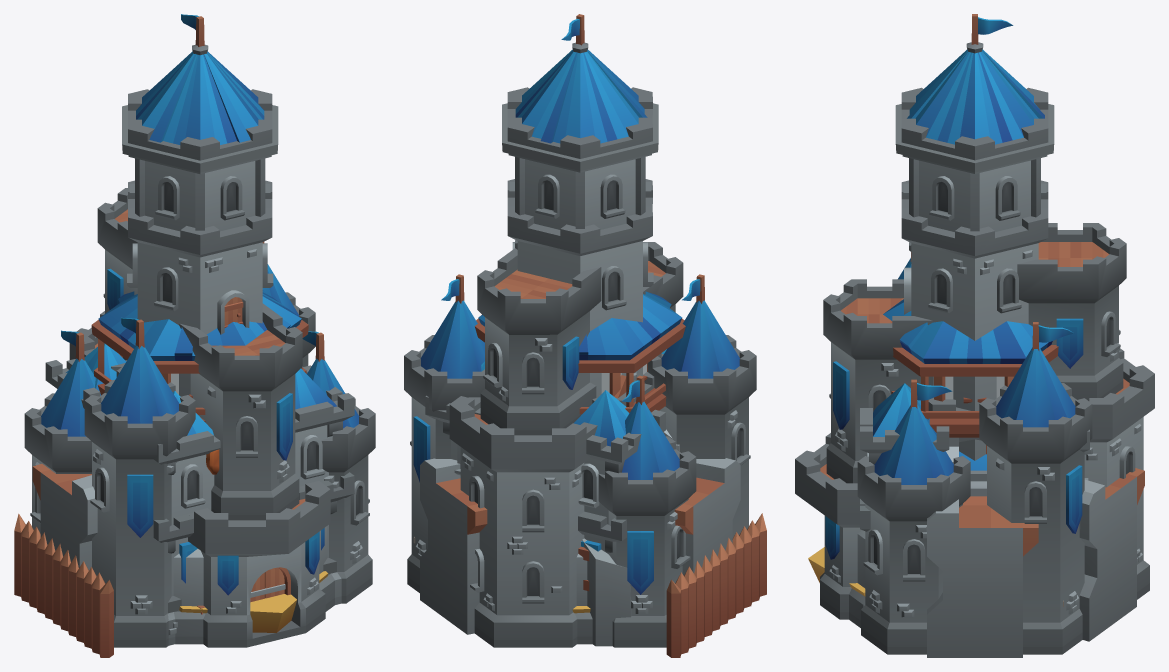
Rendered from props.glb.
3 views of the same model, side by side, from view 1: azimuth 30°, elevation 25°; view 2: azimuth 150°, elevation 25°; view 3: azimuth 270°, elevation 25° (orthographic).
Visible parts, largest first — view 1: building_castle_blue, building_barracks_blue, fence_wood_straight, building_tower_B_top_blue, wall_corner_A_outside, building_grain, wall_straight_gate, wall_straight; view 2: building_castle_blue, wall_corner_A_outside, fence_wood_straight, building_barracks_blue, building_tower_B_top_blue, building_mine_blue, wall_straight; view 3: building_castle_blue, wall_straight, wall_corner_A_outside, building_tower_B_top_blue, wall_straight_gate, building_barracks_blue, building_tower_A_top_blue.
Boxes of the visible parts, x1,y1,x2,y2 form: building_castle_blue: (24,14,375,647); building_barracks_blue: (45,343,354,645); fence_wood_straight: (14,513,113,657); building_tower_B_top_blue: (91,290,308,421); wall_corner_A_outside: (32,464,92,567); building_grain: (179,571,328,632); wall_straight_gate: (79,487,97,569); wall_straight: (33,464,92,494); building_castle_blue: (404,14,756,647); wall_corner_A_outside: (420,444,740,634); fence_wood_straight: (666,513,766,657); building_barracks_blue: (425,349,666,553); building_tower_B_top_blue: (474,291,685,414); building_mine_blue: (582,538,631,646); wall_straight: (675,458,731,511); building_castle_blue: (795,14,1154,654); wall_straight: (927,499,1038,657); wall_corner_A_outside: (1079,468,1144,641); building_tower_B_top_blue: (883,299,1058,437); wall_straight_gate: (927,437,1031,651); building_barracks_blue: (860,383,1089,606); building_tower_A_top_blue: (933,376,1013,403).
Size of the model in its own units: 2.05 by 4.08 by 2.26.
1 material, 1 textured.
